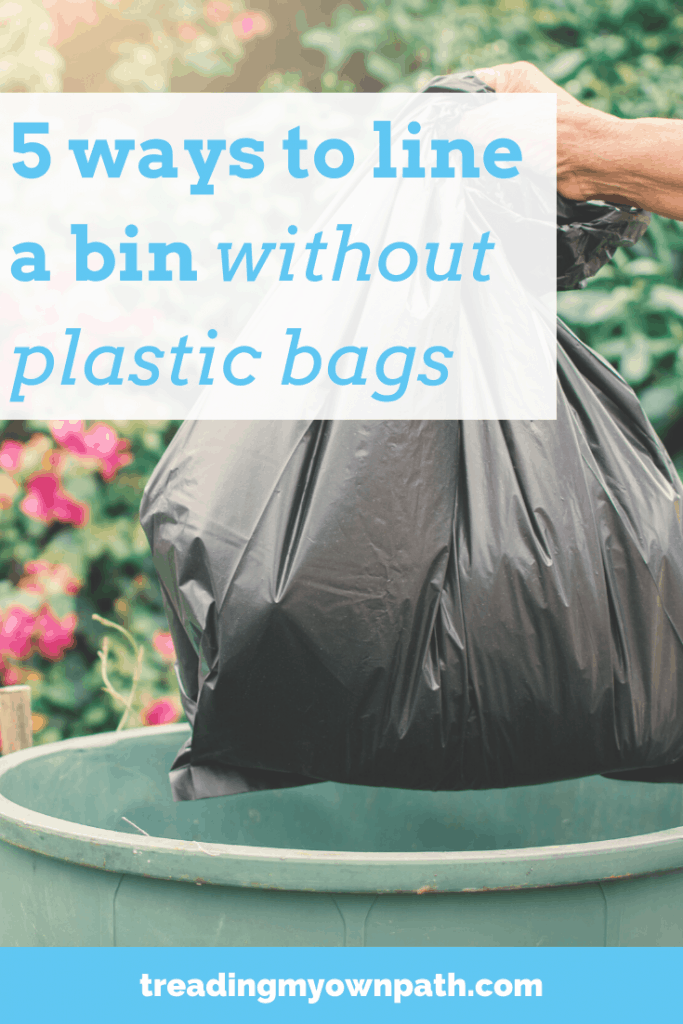plastic_bagwdw: (72, 30, 683, 851)
